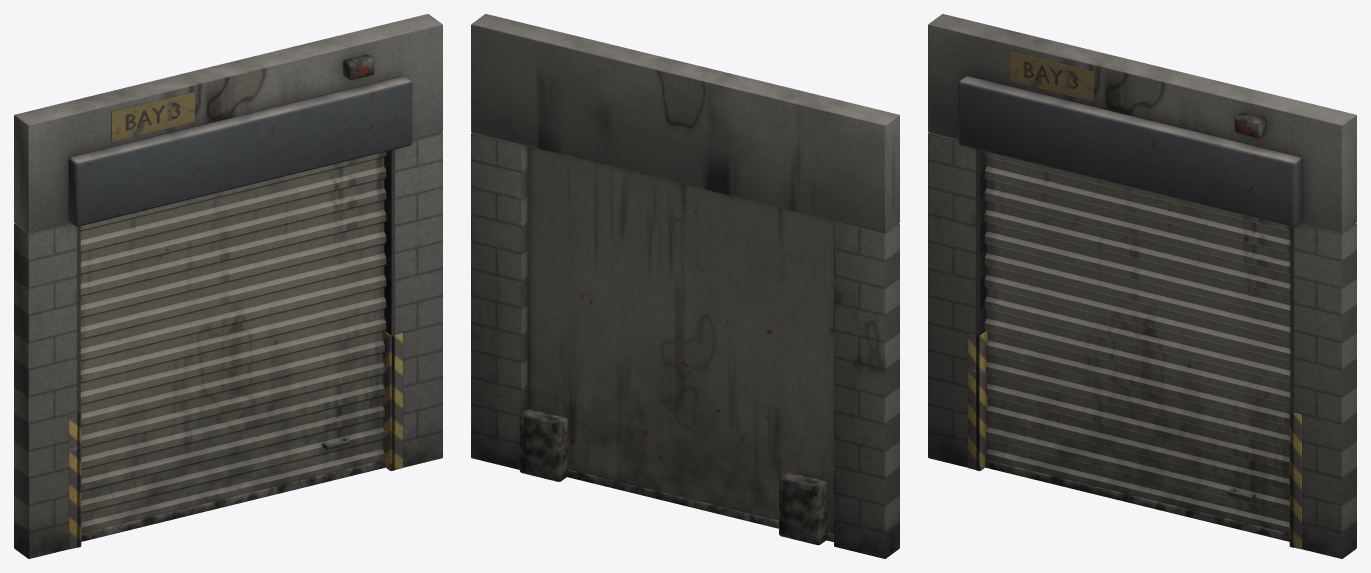
Rendered from dock_door.fbx.
3 views of the same model, side by side, from view 1: azimuth 30°, elevation 25°; view 2: azimuth 150°, elevation 25°; view 3: azimuth 330°, elevation 25° (orthographic).
Visible parts, largest first — view 1: Door, Body; view 2: Body, Door; view 3: Door, Body.
Part boxes in pixels (left/top/right/bottom): Door: left=80, top=151, right=386, bottom=541; Body: left=14, top=14, right=442, bottom=558; Body: left=471, top=14, right=899, bottom=558; Door: left=527, top=146, right=834, bottom=541; Door: left=984, top=151, right=1290, bottom=541; Body: left=928, top=14, right=1356, bottom=558.
Size of the model in its own units: 16 by 16 by 2.2.
1 material, 1 textured.
